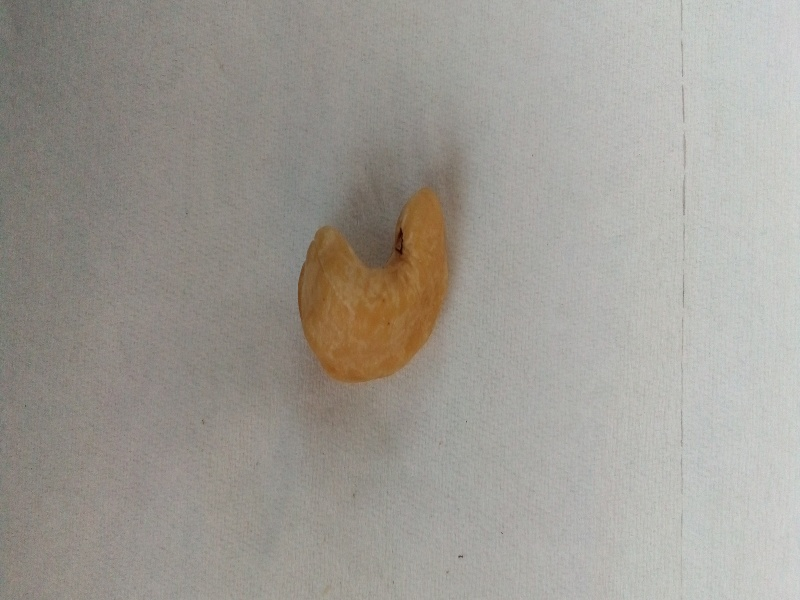cashew: (279, 168, 475, 397)
